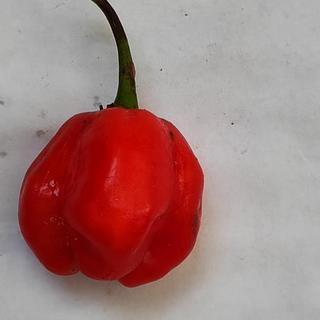Grade-B: (12, 102, 205, 289)
